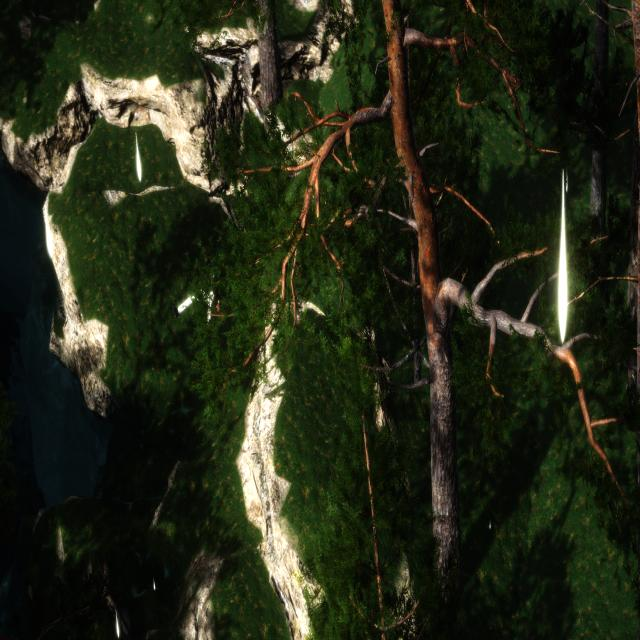Human: (173, 248, 229, 334)
